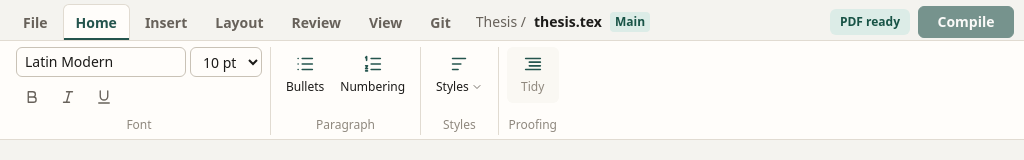
Test: Ribbon panels › File tab disables writing commands in a read-only project
Step 1. Click the tab "File" → (35, 22), box [10,4,60,40]
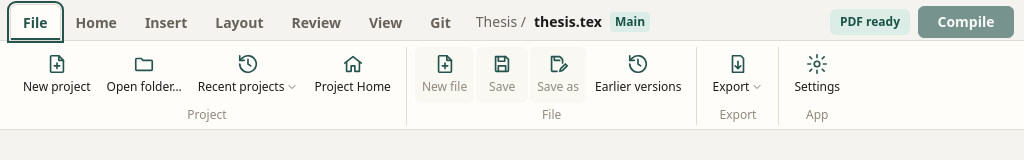
Now the button "New file" is disabled, box [415,47,474,103]
Now the button "Save" is disabled, box [476,47,528,103]
Now the button "Save as" is disabled, box [530,47,586,103]
